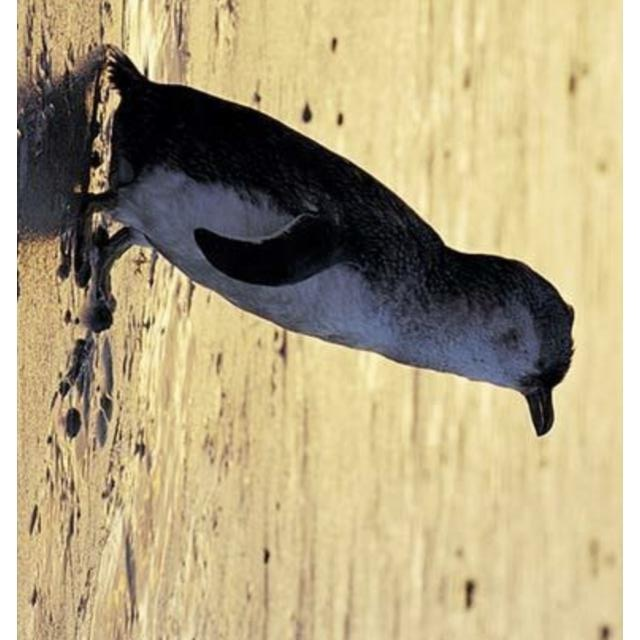penguin: (70, 41, 575, 437)
